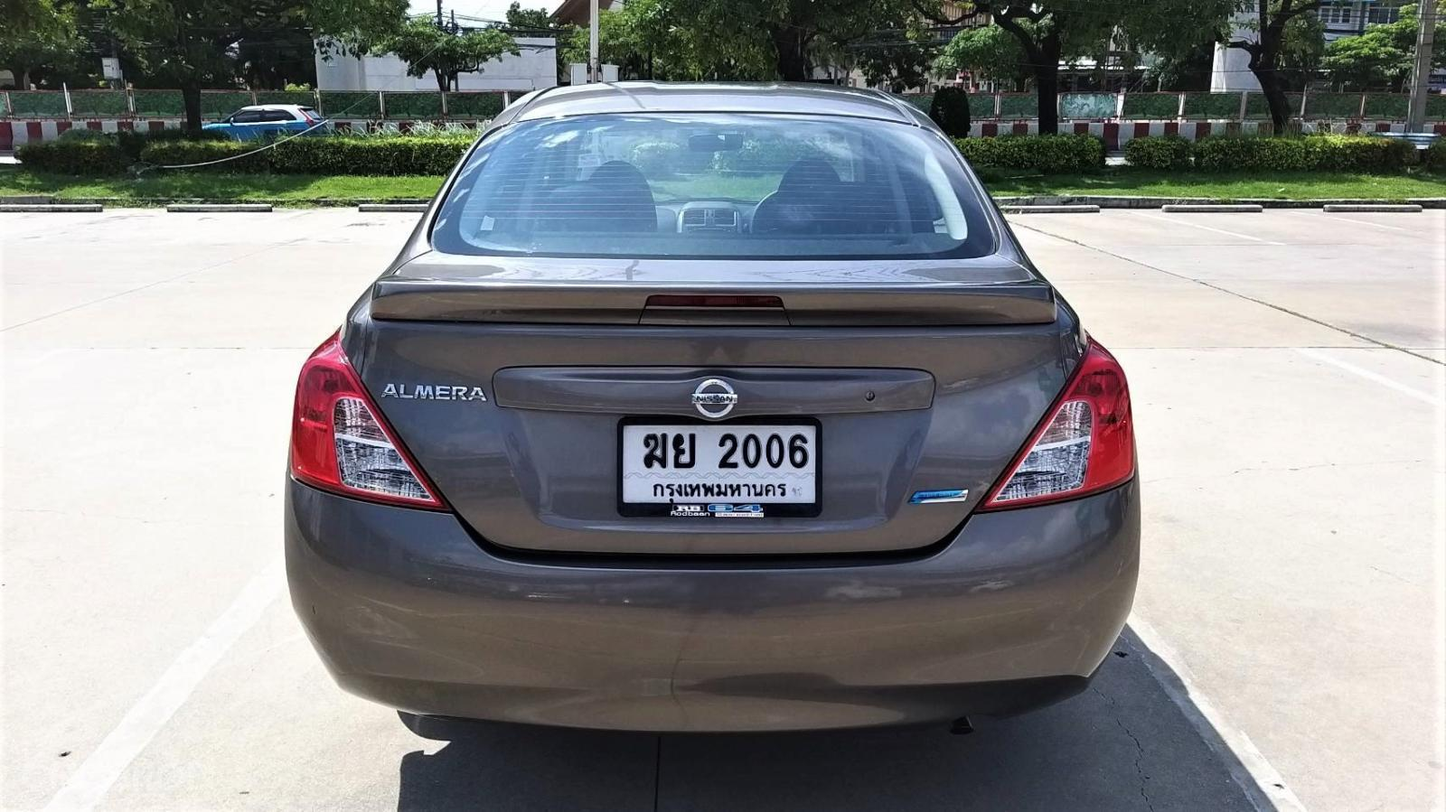license-plate: (613, 411, 829, 528)
